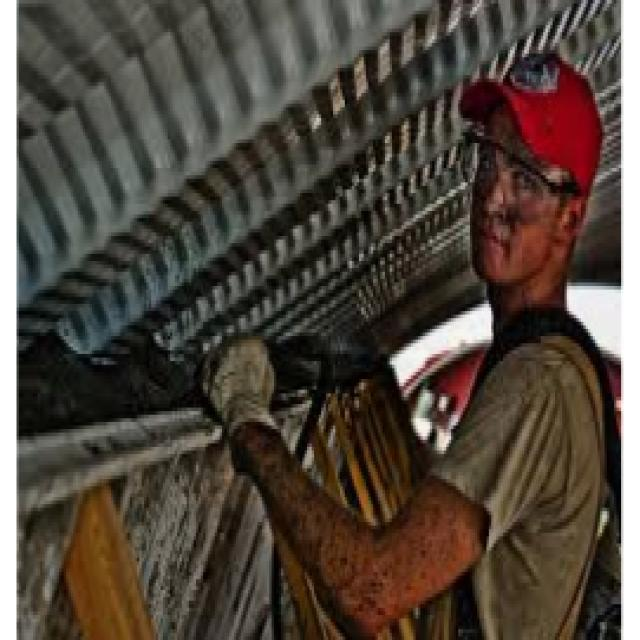glasses: (466, 122, 594, 208)
